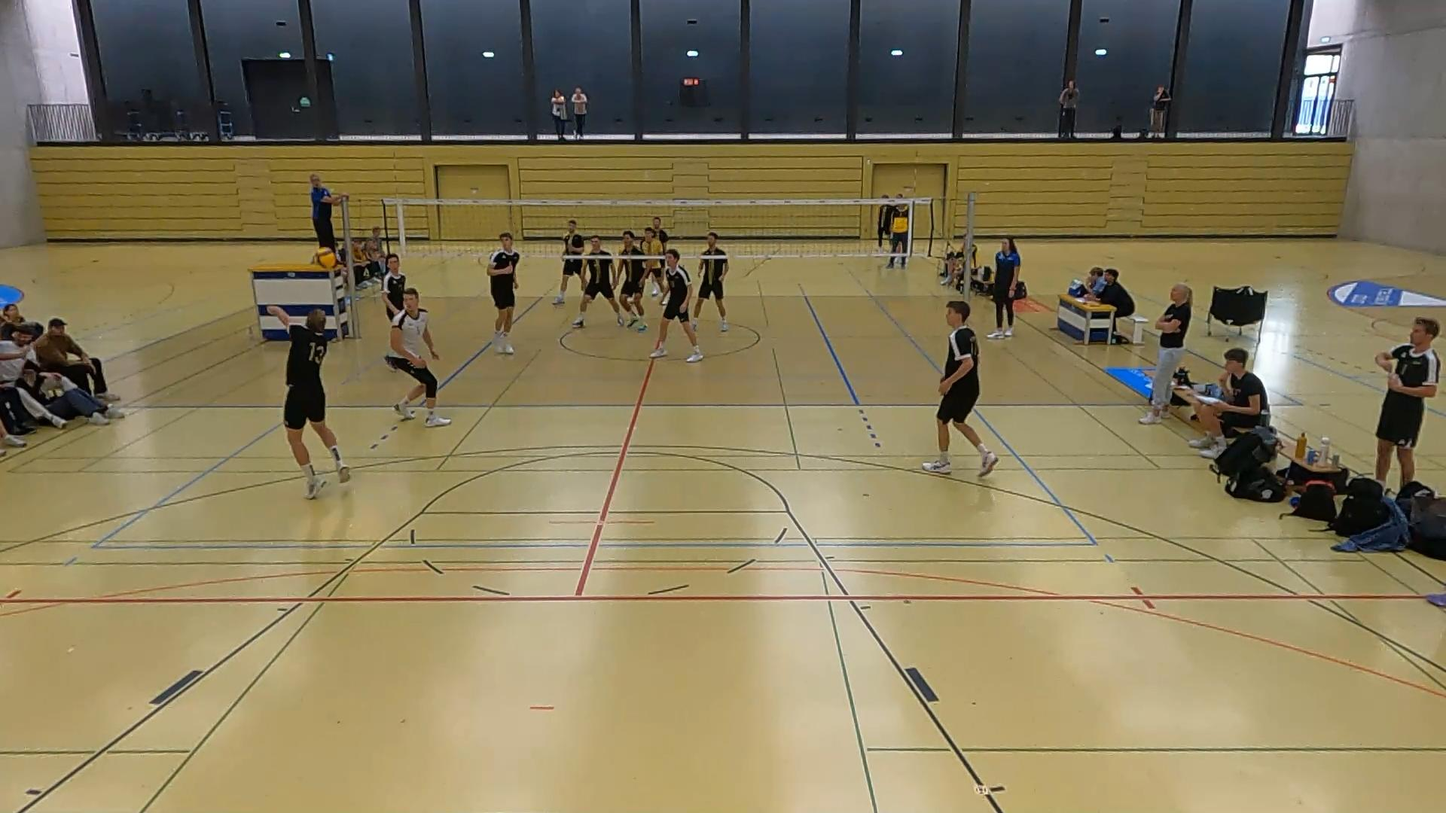Dig: (262, 297, 355, 502)
Player: (923, 300, 997, 476), (386, 288, 450, 427), (650, 249, 703, 362), (572, 235, 624, 327), (487, 232, 519, 354), (691, 231, 728, 331), (616, 230, 645, 331), (554, 220, 583, 305), (381, 254, 406, 320), (642, 227, 665, 298), (651, 216, 669, 253)
ball: (314, 245, 337, 272)
